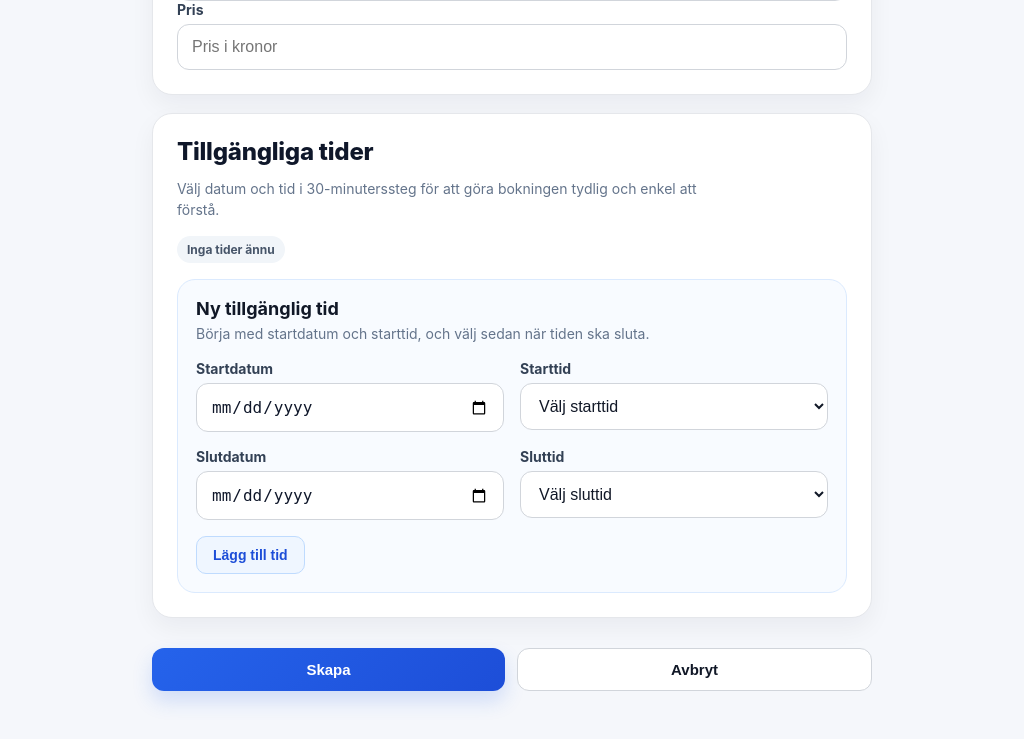
CreateServicePage › hindrar sluttid som är före starttid
This screenshot has width=1024, height=739.
(page scrolled)
Type "2035-05-01" into the date field labelled "Startdatum" at coordinates (350, 408), box [196, 383, 504, 432]
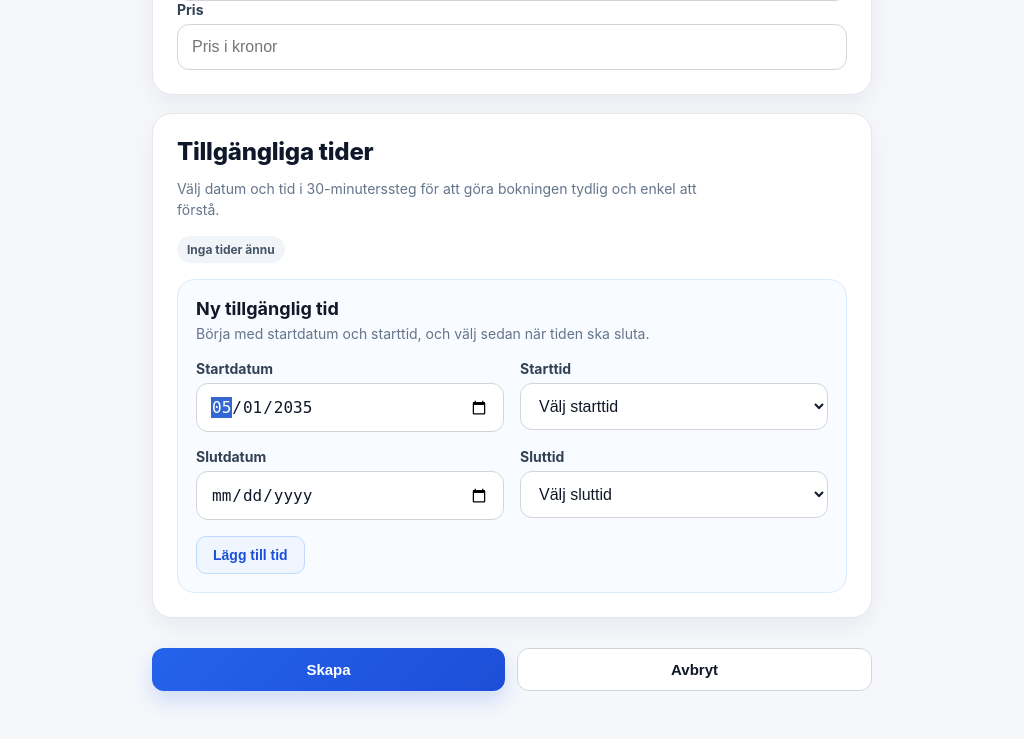
Select "12:00" in the dropdown labelled "Starttid" at coordinates (674, 407), box [520, 383, 828, 430]
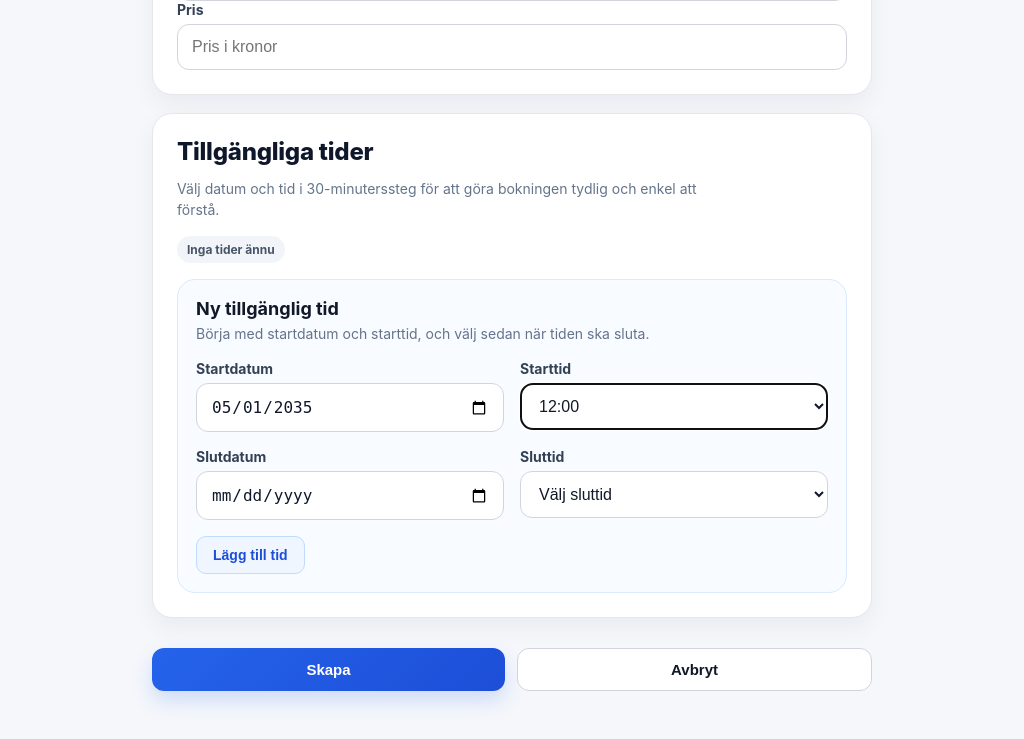
Type "2035-05-01" into the date field labelled "Slutdatum" at coordinates (350, 496), box [196, 471, 504, 520]
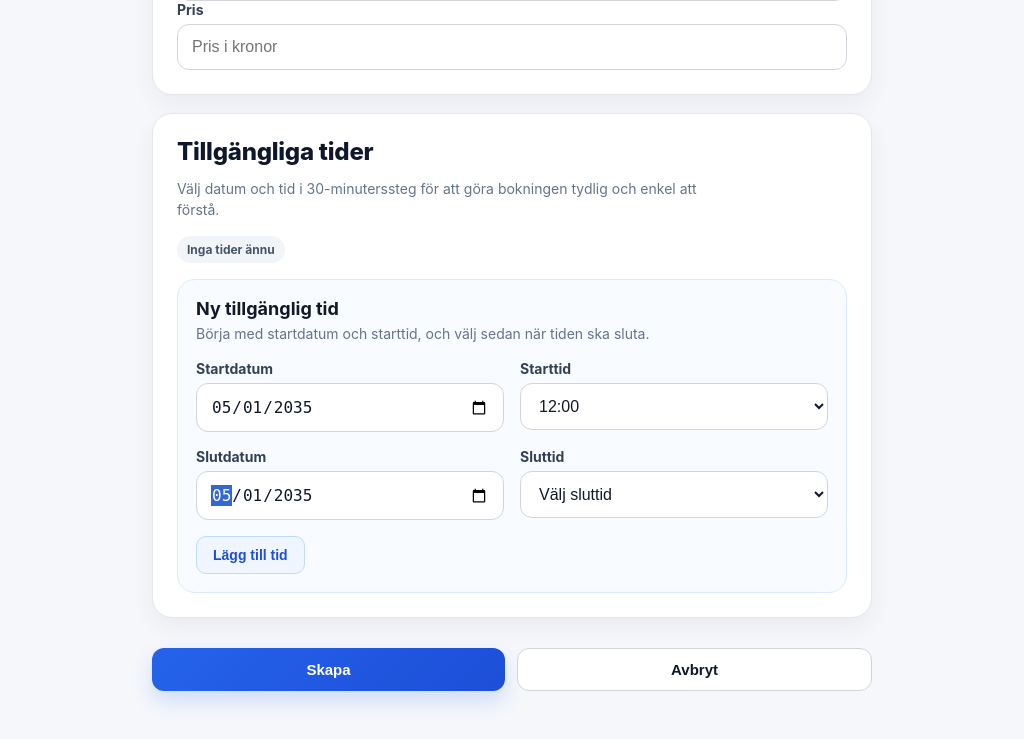
Select "10:00" in the dropdown labelled "Sluttid" at coordinates (674, 495), box [520, 471, 828, 518]
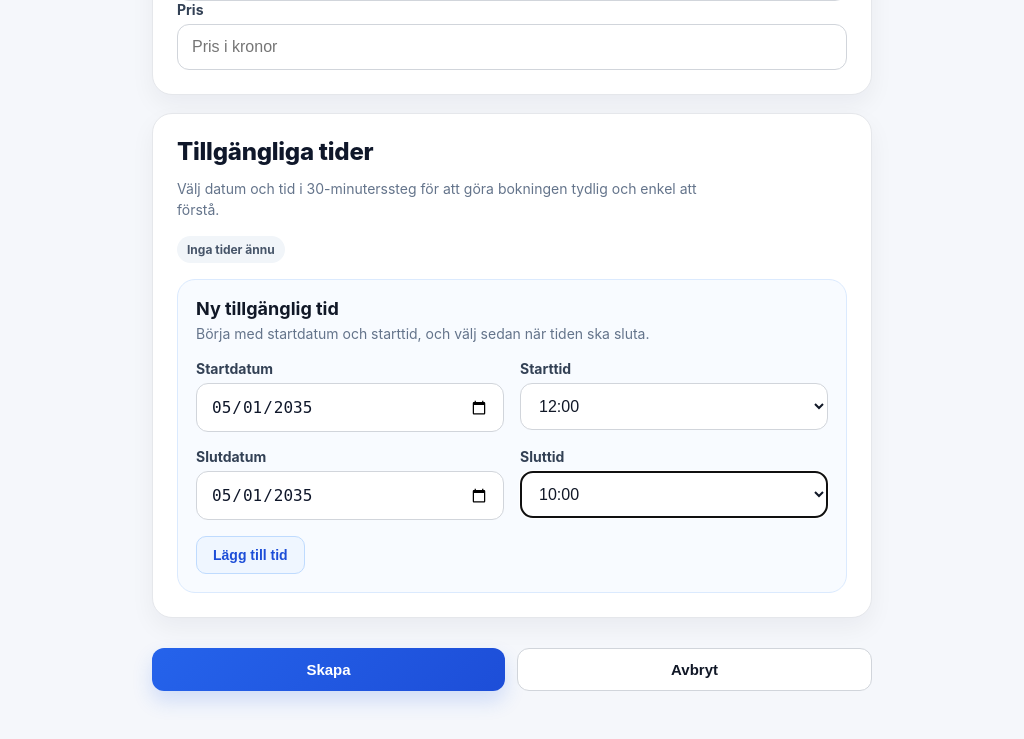
Click the button "Lägg till tid" at coordinates (250, 555), box [196, 536, 305, 574]
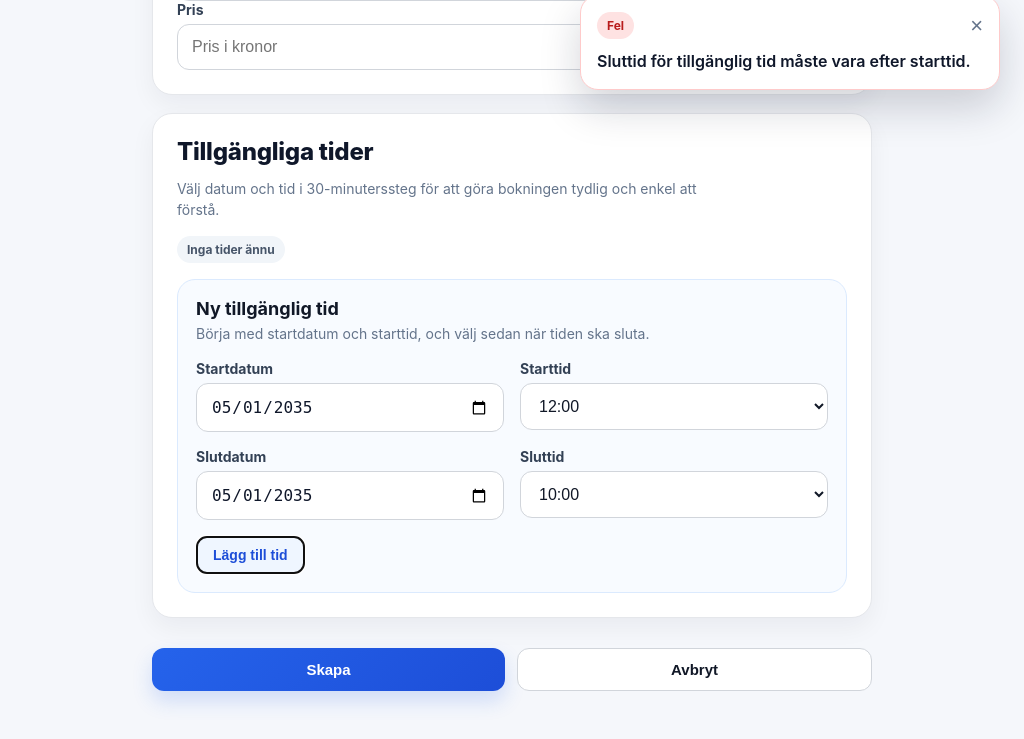
Expected: the text "Sluttid för tillgänglig tid måste vara efter starttid." is shown, [597, 49, 983, 75]
